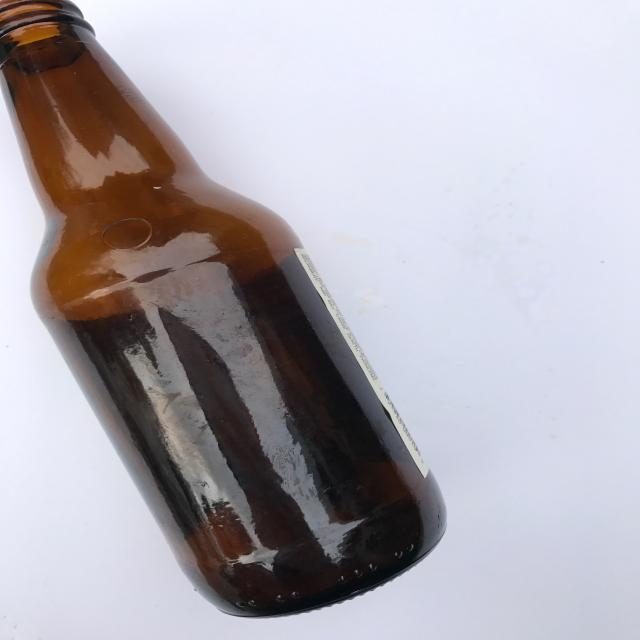glass: (1, 1, 449, 619)
